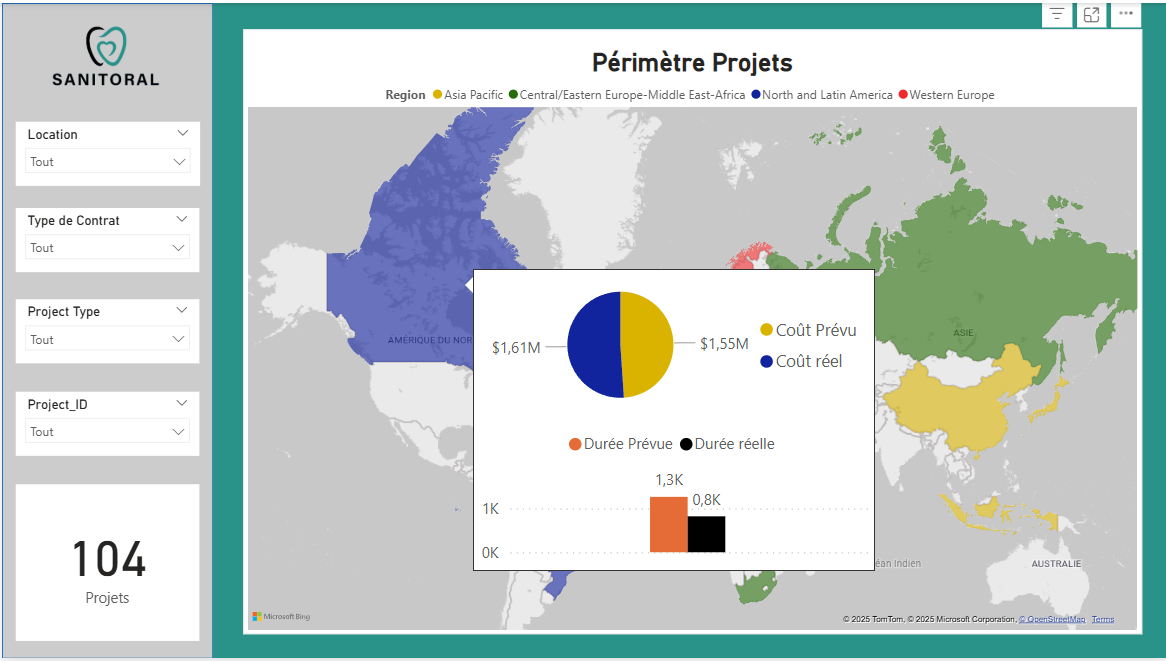

This screenshot's page, from the dashboard's own definition file:
{"tool":"powerbi","page":{"name":"Cartographie Projets","canvas":[1280,720],"ordinal":2},"visuals":[{"type":"filledMap","title":"Périmètre Projets","fields":{"Category":["Projects_Locations.Country"],"Series":["Projects_Locations.Region"]},"box":[264.6,29.2,986.3,664.3],"z":0},{"type":"shape","box":[0,0,231.5,719.8],"z":1000},{"type":"slicer","fields":{"Values":["Country_Profiles.Region","Country_Profiles.Country"]},"box":[14.6,130.3,202.3,70],"z":2000},{"type":"image","box":[37,14.6,156.6,91.4],"z":3000},{"type":"slicer","fields":{"Values":["Projects_Locations.Project_ID"]},"box":[14.6,427,201.3,70],"z":4000},{"type":"slicer","fields":{"Values":["Country_Profiles.Type"]},"box":[14.6,225.7,201.3,70],"z":5000},{"type":"card","fields":{"Values":["Count(Deliverables_status.Project_ID)"]},"box":[14.6,528.1,201.3,172.2],"z":6000},{"type":"slicer","fields":{"Values":["Project type.Project Type"]},"box":[14.6,324.9,201.3,70],"z":7000}]}

Visuals, with their boxes on the page's 1280x720 design canvas (x1, y1, x2, y2). These are canvas units, not pixel positions in the 1166x661 screenshot, which may show the page scaled, cropped or inside an application window:
"Périmètre Projets" filledMap: x1=265, y1=29, x2=1251, y2=694
shape: x1=0, y1=0, x2=232, y2=720
slicer - Country_Profiles.Region x Country_Profiles.Country: x1=15, y1=130, x2=217, y2=200
image: x1=37, y1=15, x2=194, y2=106
slicer - Projects_Locations.Project_ID: x1=15, y1=427, x2=216, y2=497
slicer - Country_Profiles.Type: x1=15, y1=226, x2=216, y2=296
card - Count(Deliverables_status.Project_ID): x1=15, y1=528, x2=216, y2=700
slicer - Project type.Project Type: x1=15, y1=325, x2=216, y2=395
